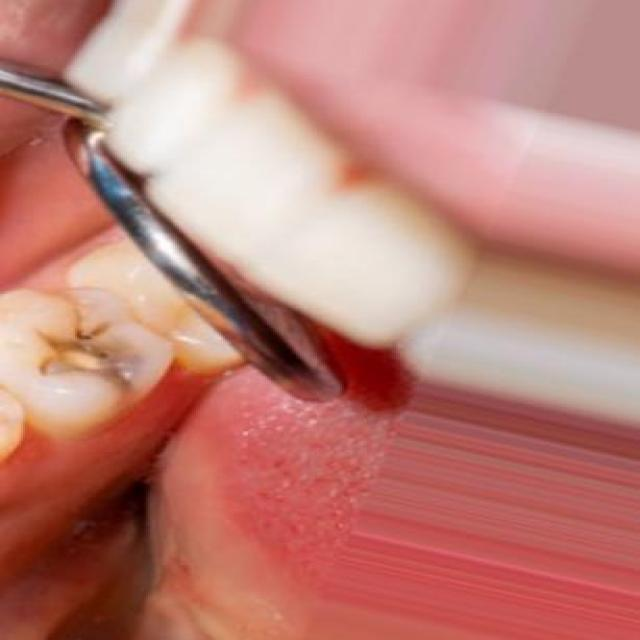caries: (15, 300, 156, 404)
